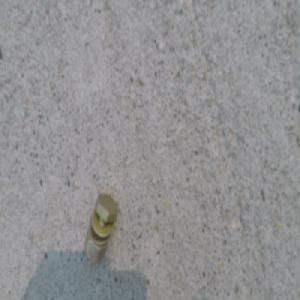BoltNutSet: (88, 189, 121, 261)
